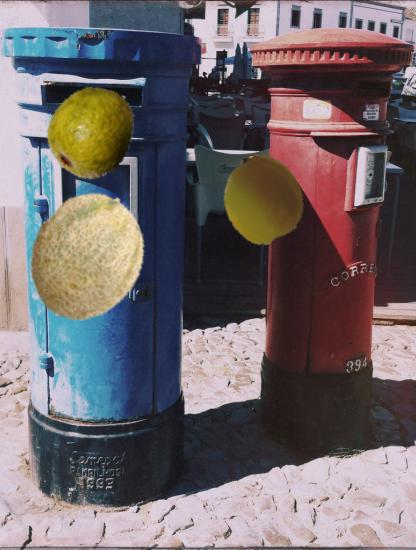Cantaloupe: (20, 190, 153, 323)
Guava: (45, 84, 140, 179)
Peach: (219, 155, 308, 244)
